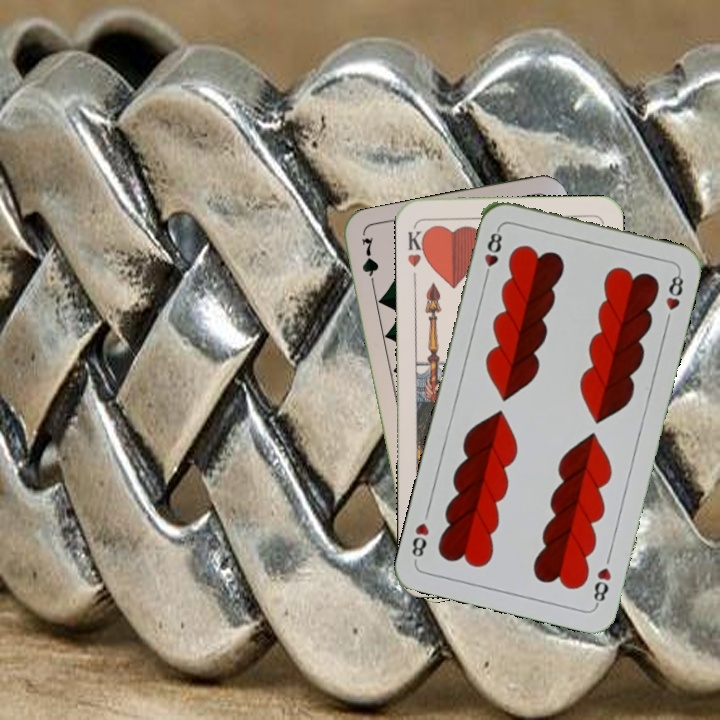G7: (357, 233, 381, 293)
H8: (480, 224, 505, 283), (589, 563, 614, 609)
HK: (403, 226, 429, 269)
